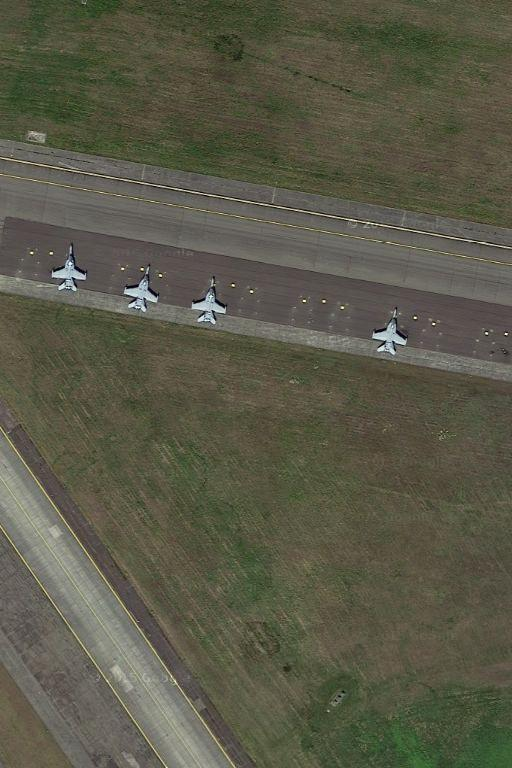F/A-18: (369, 306, 410, 361), (190, 274, 231, 328), (122, 262, 160, 317), (49, 242, 88, 295)
